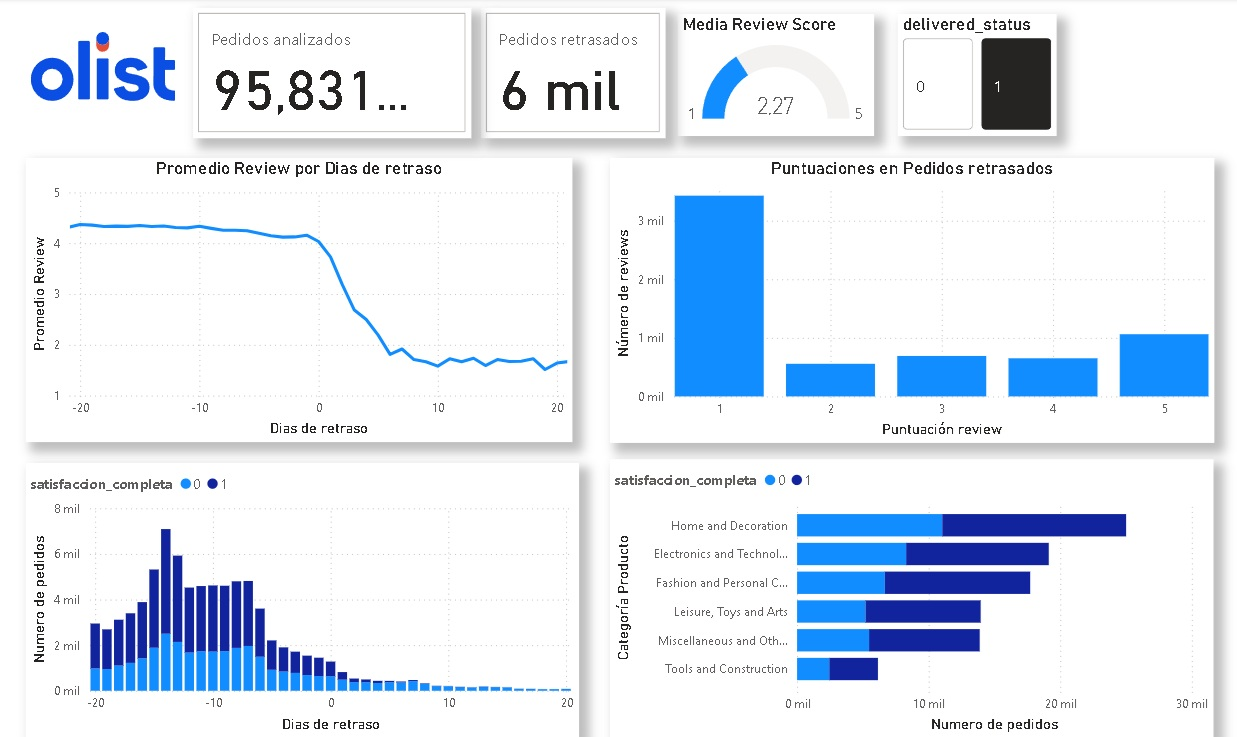

What the dashboard file says about the page in this screenshot:
{"tool":"powerbi","page":{"name":"Para presentación- Análisis retraso","canvas":[1280,720],"ordinal":2},"visuals":[{"type":"gauge","title":"Media Review Score","fields":{"Y":["Avg(final_data_VISUALIZACION.media_review_score)"],"MaxValue":["Max(final_data_VISUALIZACION.media_review_score)"],"MinValue":["Min(final_data_VISUALIZACION.media_review_score)"]},"box":[206,133,180,128],"z":0},{"type":"cardVisual","fields":{"Data":["final_data_VISUALIZACION.Pedidos retrasados"]},"box":[202,0,187,133],"z":1000},{"type":"clusteredColumnChart","title":"Puntuaciones en Pedidos retrasados","fields":{"Y":["CountNonNull(final_data_VISUALIZACION.media_review_score)"],"Category":["final_data_VISUALIZACION.media_review_score"]},"box":[403,0,494,261],"z":2000},{"type":"image","box":[29,82,151,102],"z":3000},{"type":"lineChart","title":"Promedio Review por Dias de retraso","fields":{"Category":["final_data_VISUALIZACION.Dias de retraso"],"Y":["Avg(final_data_VISUALIZACION.media_review_score)"]},"box":[213,280,684,192],"z":4000},{"type":"columnChart","fields":{"Category":["final_data_VISUALIZACION.Dias de retraso"],"Y":["CountNonNull(final_data_VISUALIZACION.order_id)"],"Series":["final_data_VISUALIZACION.satisfaccion_completa"]},"box":[213,481,684,239],"z":5000}]}

Visuals, with their boxes on the page's 1280x720 design canvas (x1, y1, x2, y2). These are canvas units, not pixel positions in the 1237x737 screenshot, which may show the page scaled, cropped or inside an application window:
"Media Review Score" gauge: 206 133 386 261
cardVisual - final_data_VISUALIZACION.Pedidos retrasados: 202 0 389 133
"Puntuaciones en Pedidos retrasados" clusteredColumnChart: 403 0 897 261
image: 29 82 180 184
"Promedio Review por Dias de retraso" lineChart: 213 280 897 472
columnChart - final_data_VISUALIZACION.Dias de retraso x CountNonNull(final_data_VISUALIZACION.order_id): 213 481 897 720
